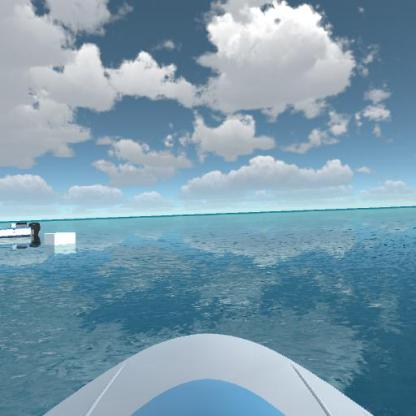usv1: (2, 215, 44, 244)
